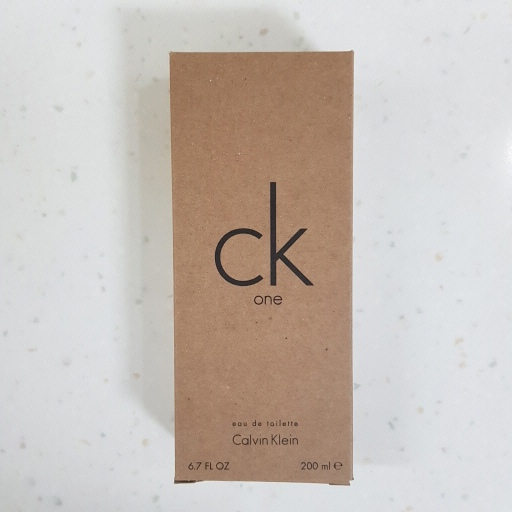Paper_0: (160, 44, 364, 495)
